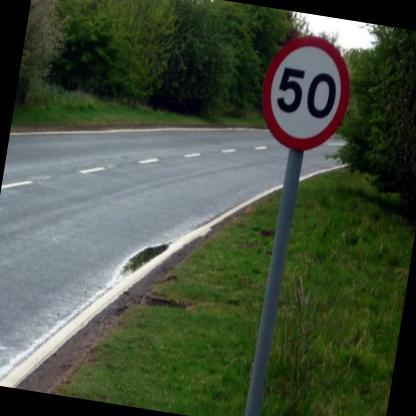road_sign: (262, 36, 349, 151)
